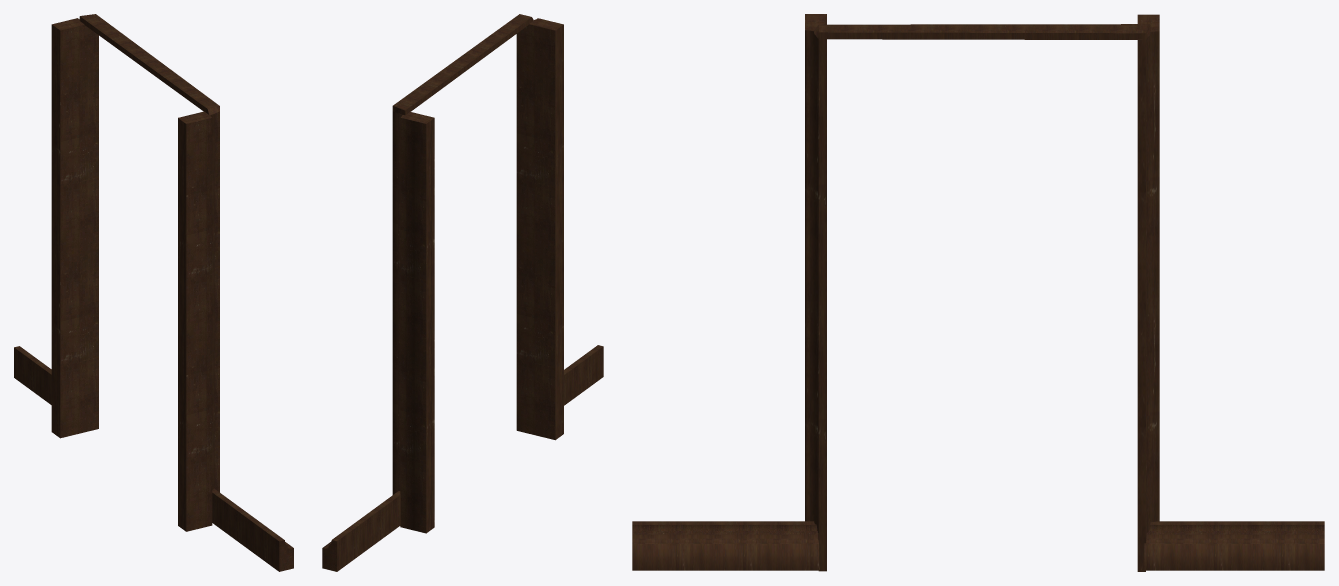
File: soupdoortrim001.obj
3 views of the same model, side by side, from view 1: azimuth 30°, elevation 25°; view 2: azimuth 150°, elevation 25°; view 3: azimuth 270°, elevation 25° (orthographic). The views are drawn at different scales.
Visible parts, largest first — view 1: soupdoortrim001_high_1; view 2: soupdoortrim001_high_1; view 3: soupdoortrim001_high_1.
Boxes of the visible parts, <box> form: soupdoortrim001_high_1: <box>14,14,293,571</box>; soupdoortrim001_high_1: <box>322,14,603,571</box>; soupdoortrim001_high_1: <box>632,14,1324,571</box>.
Bounding box in the file's own units: 0.2435 × 2.32 × 2.7.
